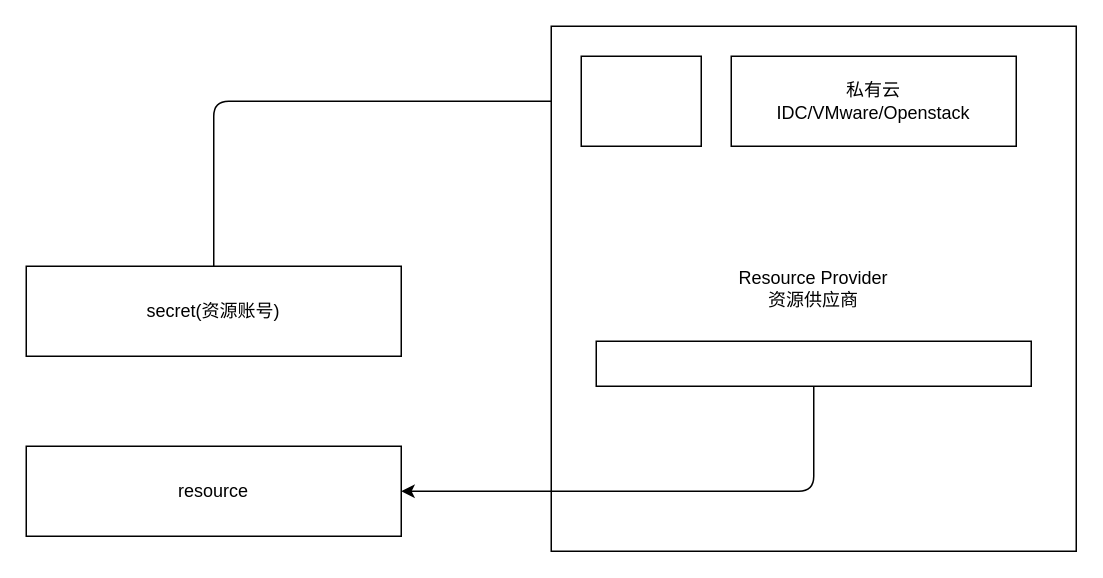
This 1103x578 diagram has some shape labels left out. Here are the shapes that lost their labels. From the top down, the centre of each, then its label:
At [640,100]: "共有云 aws/ali/...".
At [813,363]: "统一转化层".
